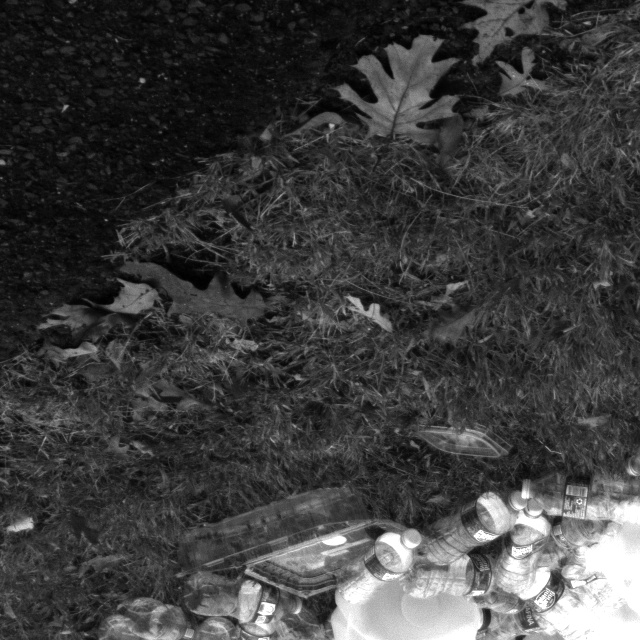bottle: (418, 481, 529, 566), (501, 559, 598, 636), (515, 473, 640, 531), (183, 575, 304, 624), (400, 552, 513, 603), (492, 502, 554, 594), (558, 556, 623, 620)
can: (327, 570, 484, 640), (587, 498, 640, 617)
container: (184, 486, 413, 604), (419, 420, 509, 460)
